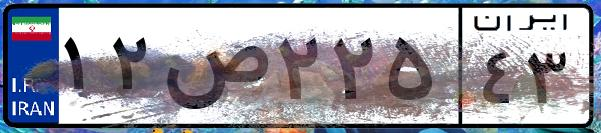1: (57, 26, 110, 100)
2: (270, 28, 330, 110), (330, 28, 385, 110), (110, 28, 158, 98)
3: (525, 38, 570, 115)
4: (475, 38, 525, 113)
5: (385, 28, 445, 110)
ص: (158, 20, 270, 120)
